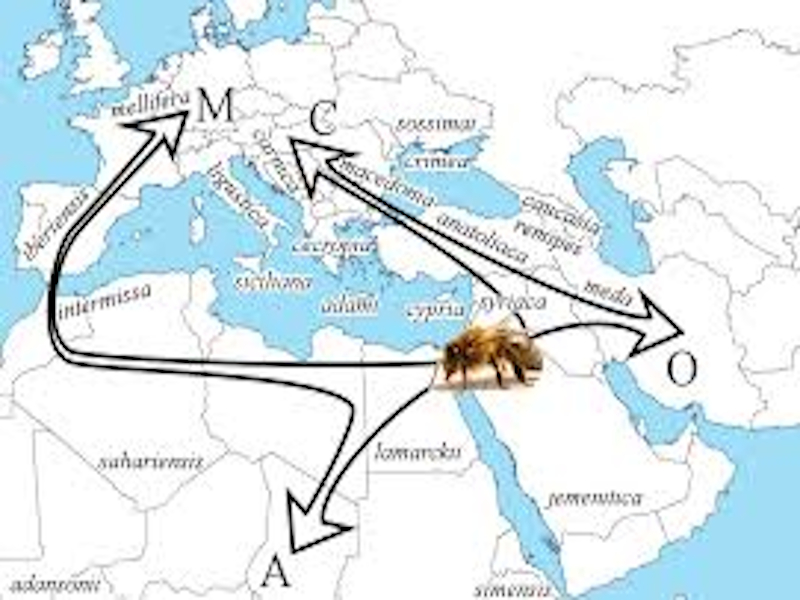abeja: (437, 324, 548, 410)
